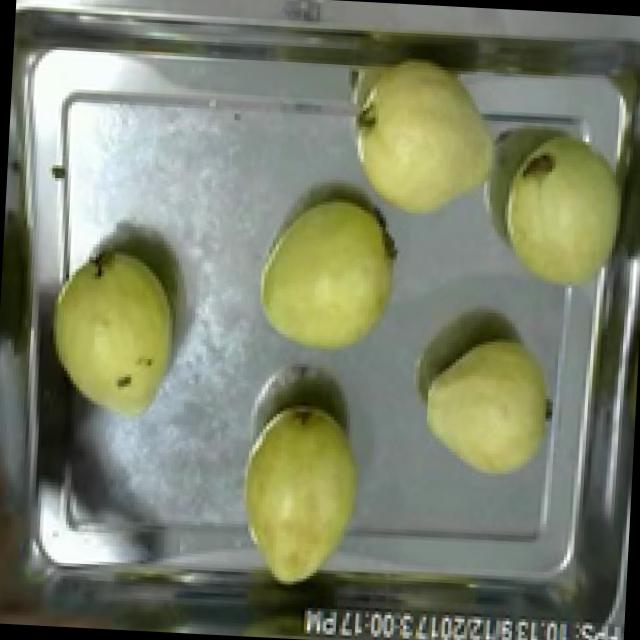Fruit: (338, 46, 503, 230), (36, 238, 190, 431), (248, 188, 407, 370), (230, 396, 374, 595), (488, 121, 640, 304), (414, 326, 563, 490)
